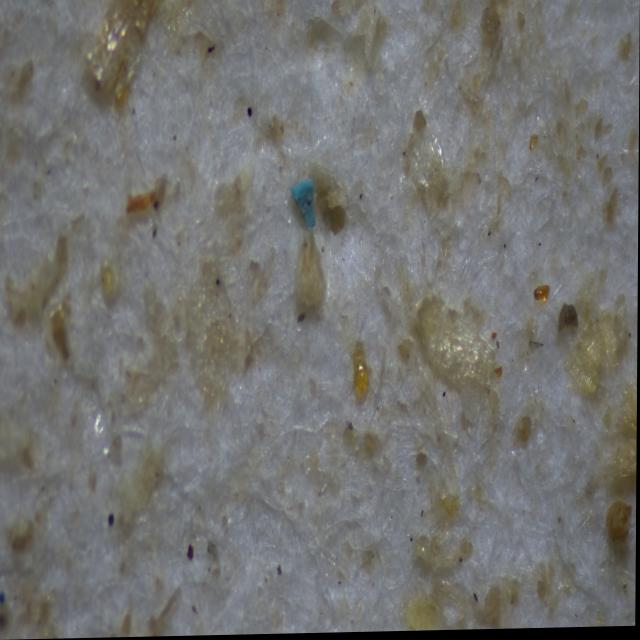microplastic: (287, 177, 319, 233)
